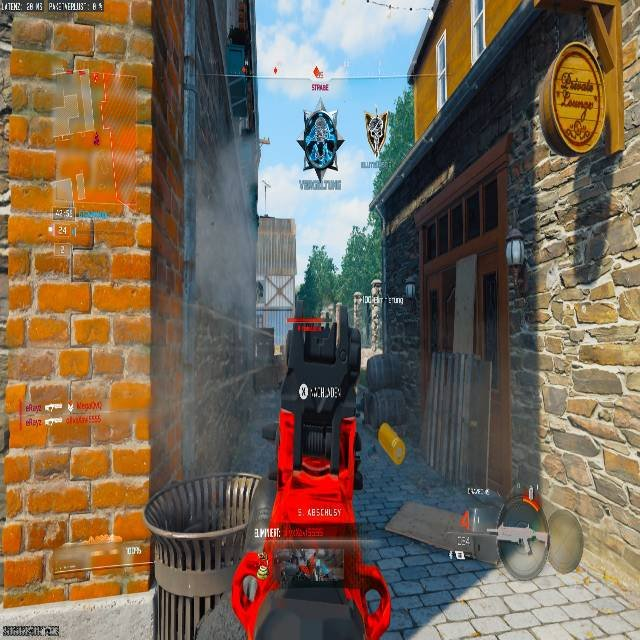player: (297, 109, 343, 184)
